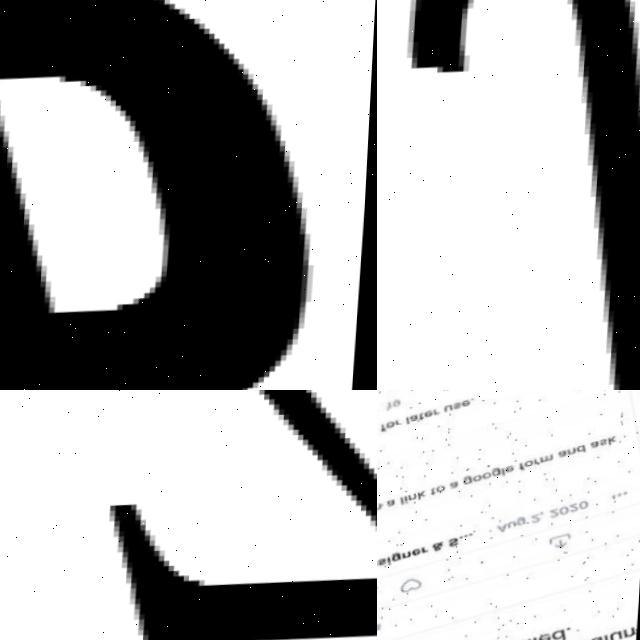0: (559, 513, 572, 523), (579, 508, 592, 518)
1: (385, 406, 393, 414)
2: (531, 520, 543, 531), (550, 516, 561, 526), (570, 510, 580, 520)
7: (32, 390, 377, 640)
9: (392, 403, 402, 413)
D: (0, 0, 336, 390)
J: (377, 0, 640, 390)
